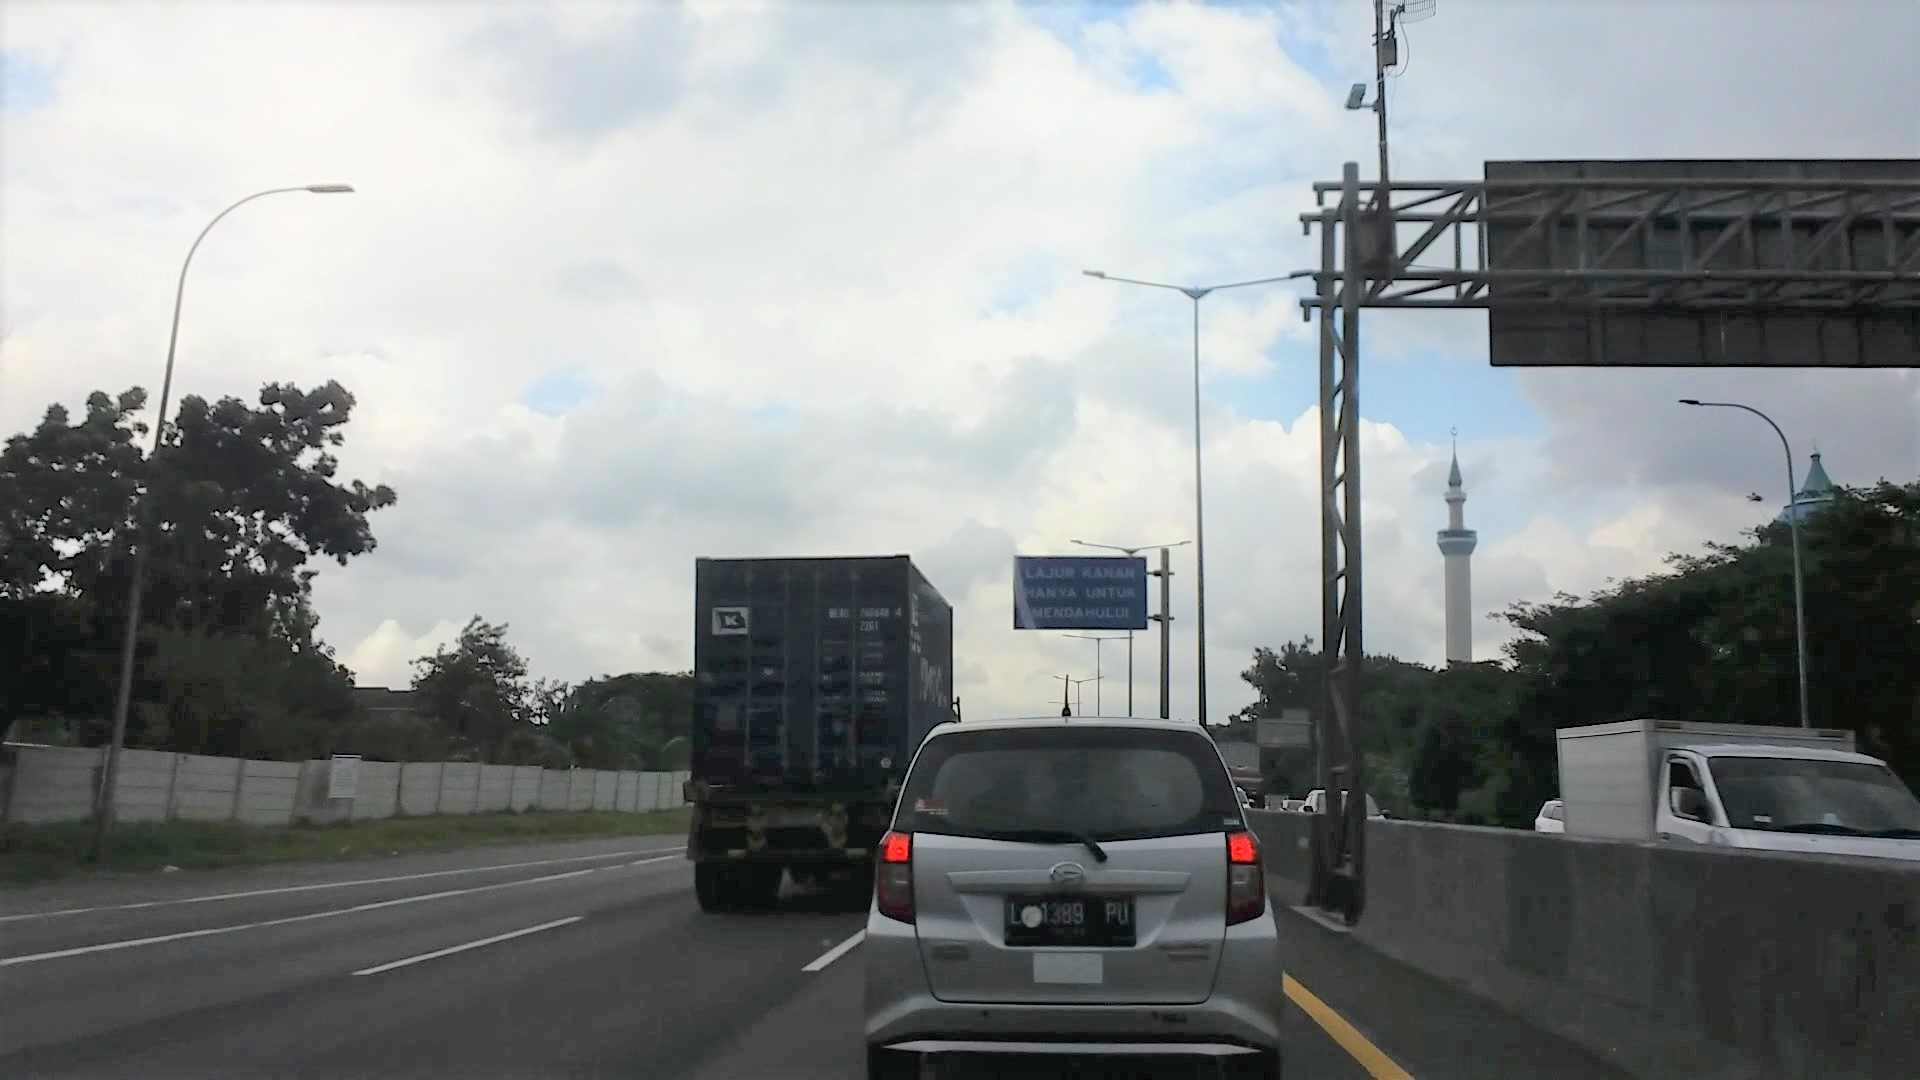plate_positive: (1004, 893, 1137, 947)
